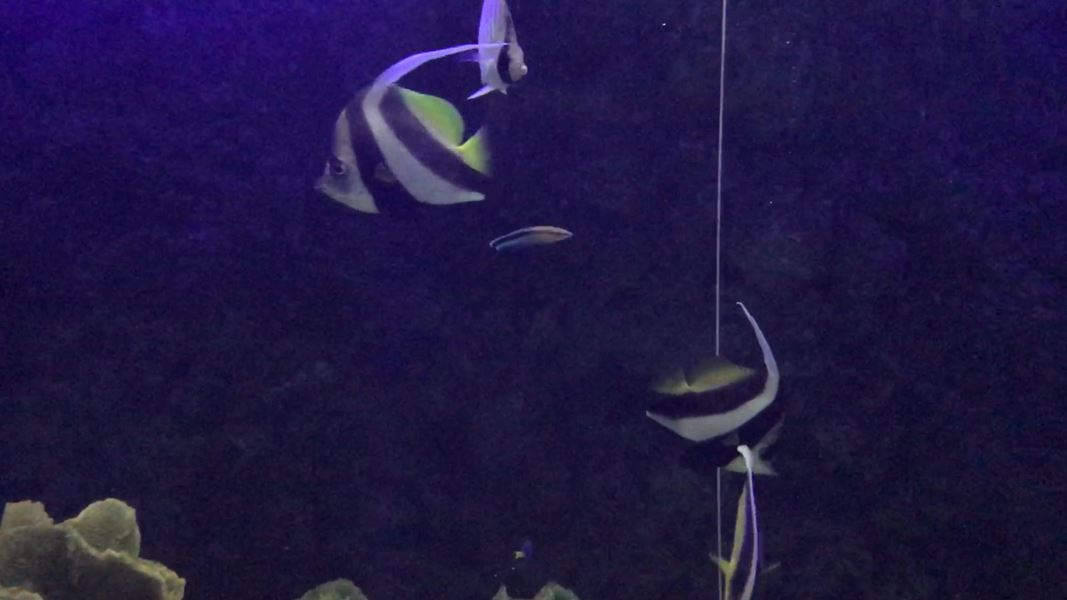Bluesteak cleaner wrasse: (476, 215, 577, 266)
